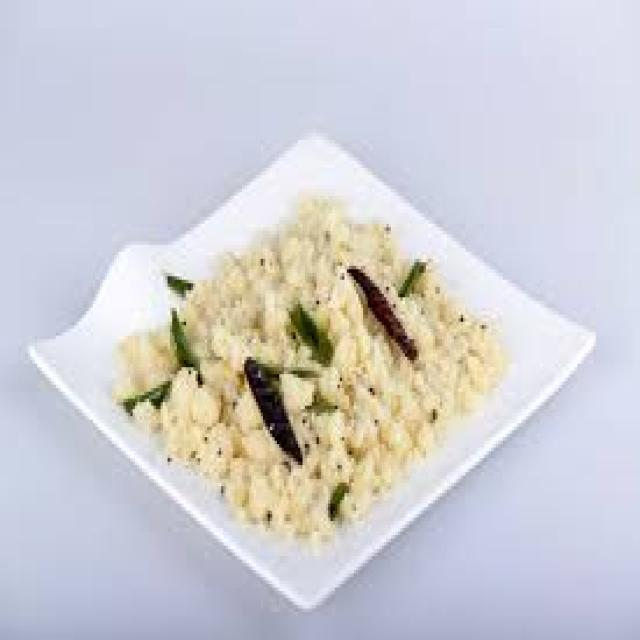POHA: (112, 192, 500, 528)
